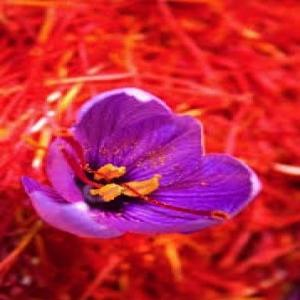Saffron: (18, 89, 262, 239)
